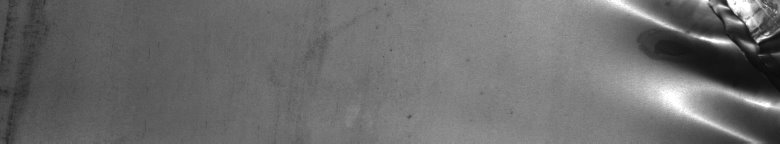ke: (607, 4, 776, 136)
